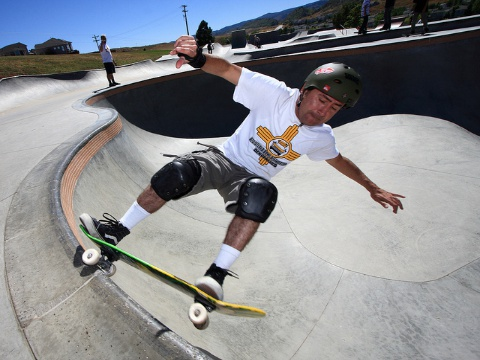hand: (368, 187, 408, 216), (168, 34, 198, 70)
